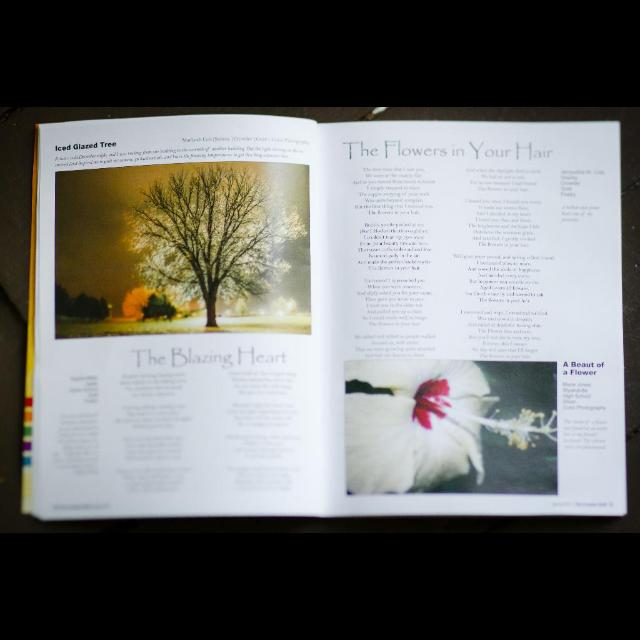Flower: (345, 354, 563, 500)
